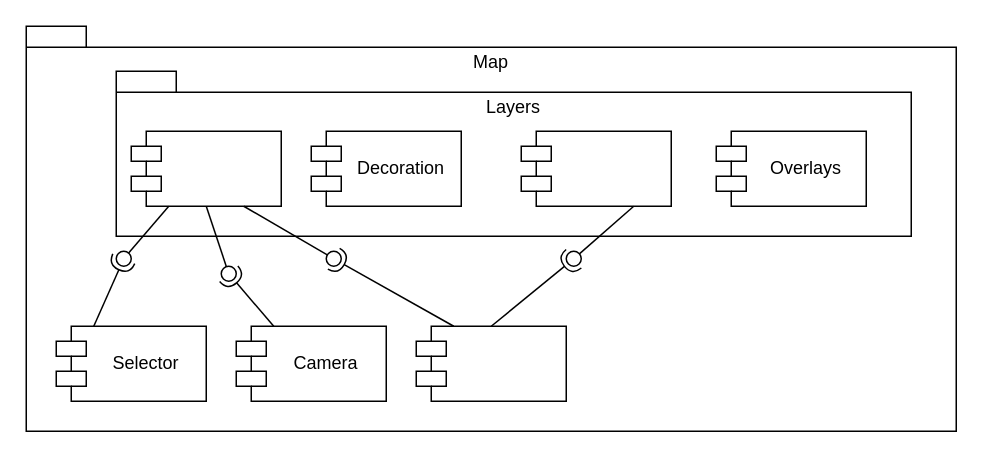
This 983x458 diagram has some shape labels left out. Here are the shapes that lost their labels. From the top down, the box of each, then its label:
(130, 130, 281, 206): Ground
(520, 130, 671, 206): Entities
(415, 325, 566, 401): Projectiles
